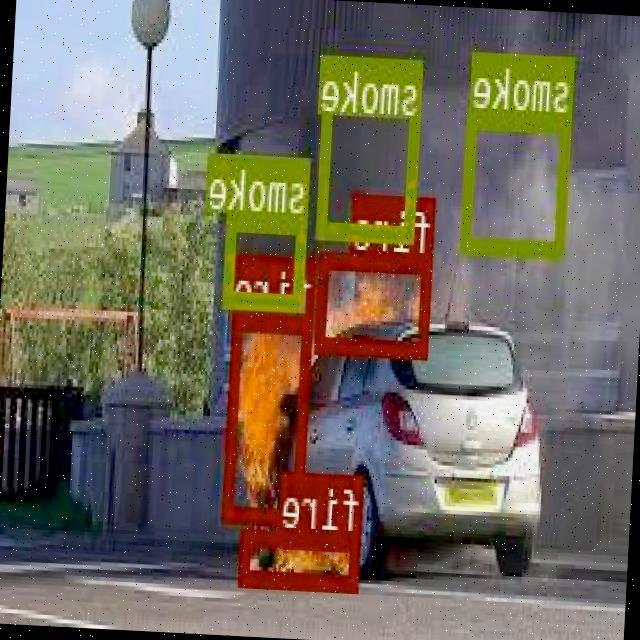fire: (225, 311, 314, 524), (318, 249, 434, 356), (240, 527, 362, 589)
smoke: (318, 55, 426, 241), (463, 110, 573, 255), (224, 212, 310, 306)
